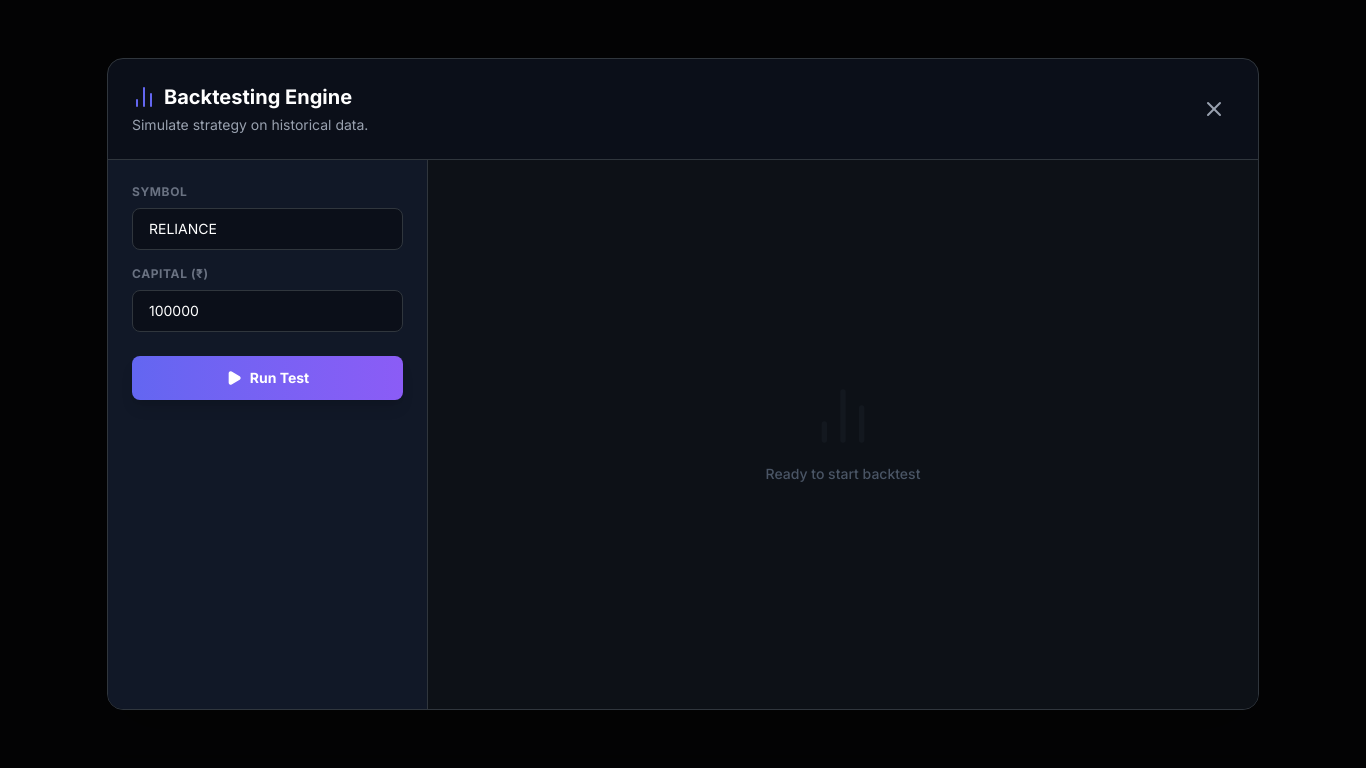
it: BacktestModal Component › displays error message on failure
This screenshot has width=1366, height=768.
Click the button "Run Test": [268, 378] box [132,356,403,400]
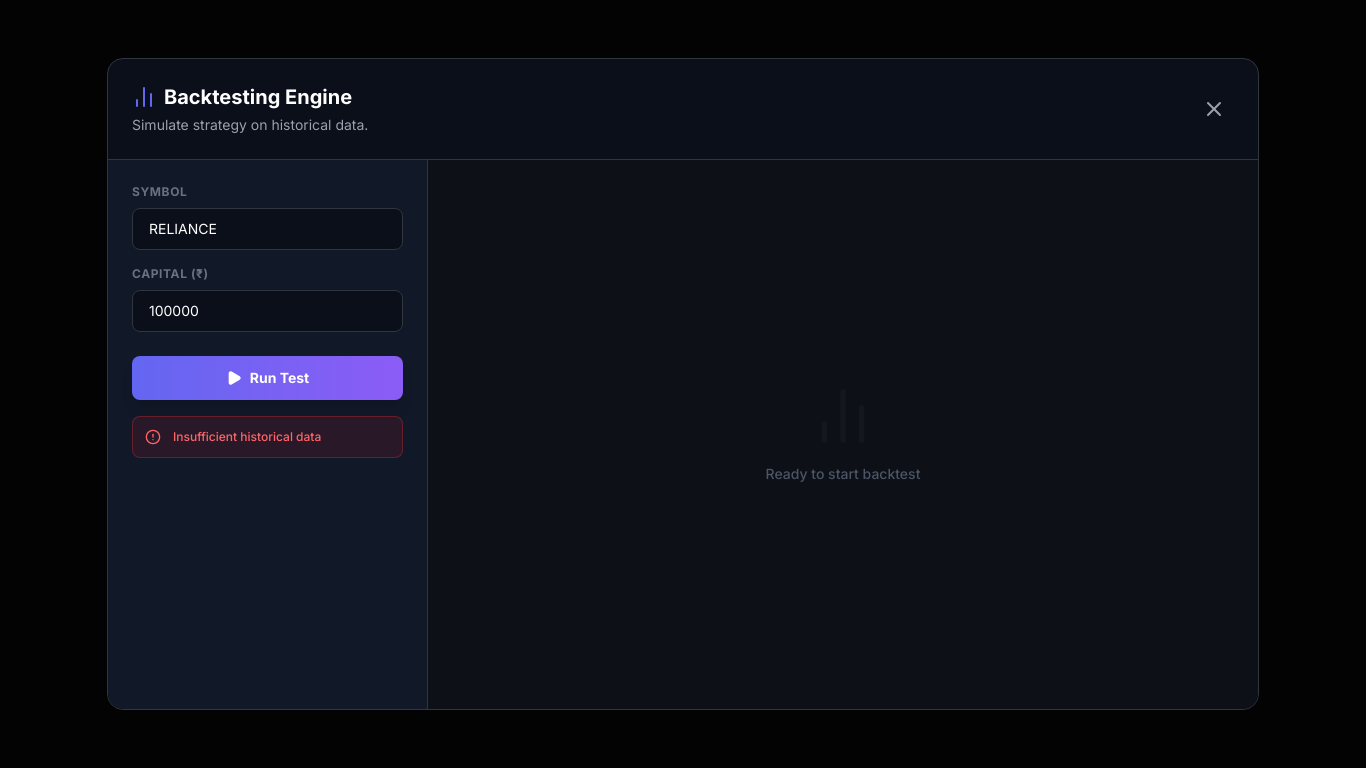
Check: the text "Insufficient historical data" is shown, box [173,429,321,445]
